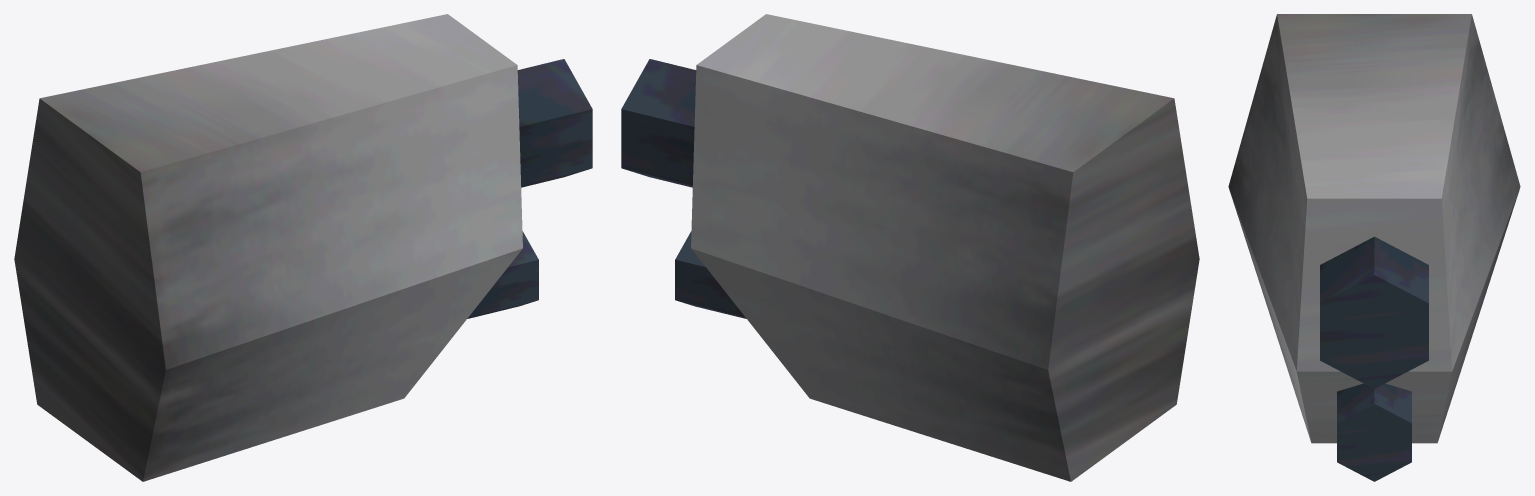
The model's file is gunBarrel.fbx.
3 views of the same model, side by side, from view 1: azimuth 30°, elevation 25°; view 2: azimuth 150°, elevation 25°; view 3: azimuth 270°, elevation 25° (orthographic). The views are drawn at different scales.
Parts seen in each view (by area): view 1: gun_barrel; view 2: gun_barrel; view 3: gun_barrel.
Part boxes in pixels (box(x1,y1,x2,y2)): gun_barrel: box(14, 14, 592, 481); gun_barrel: box(621, 14, 1199, 481); gun_barrel: box(1228, 14, 1520, 481).
Size of the model in its own units: 0.8431 by 0.5232 by 0.4665.
